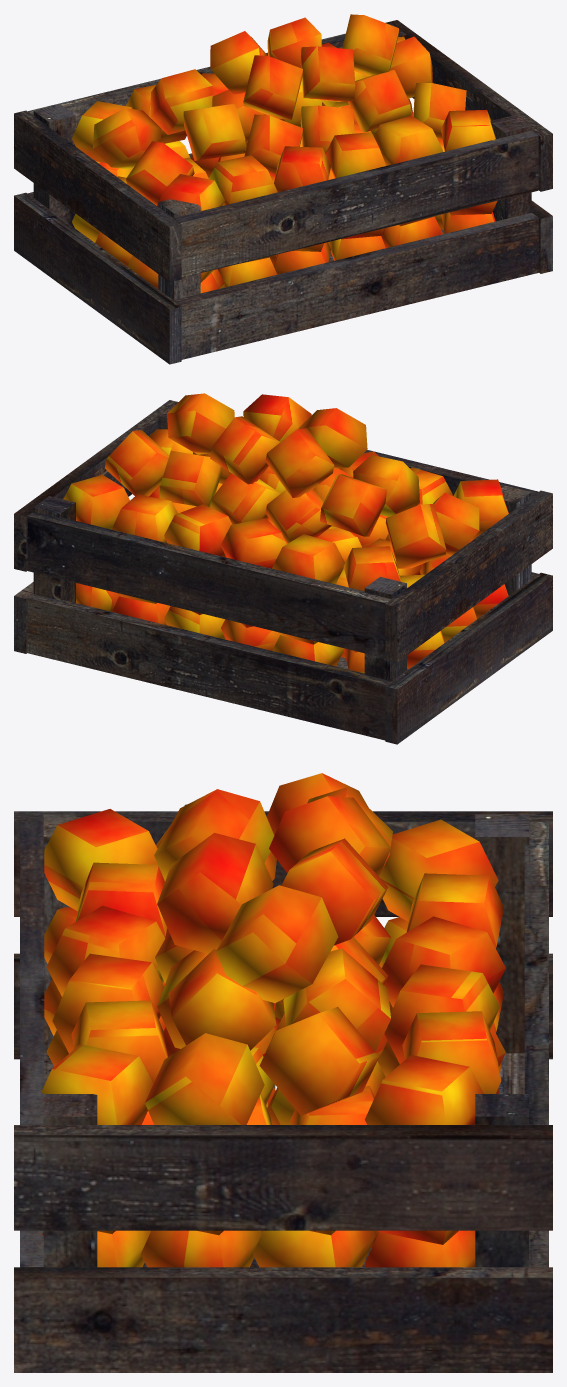
File: smallcrate.fbx
3 views of the same model, one above another, from view 1: azimuth 30°, elevation 25°; view 2: azimuth 150°, elevation 25°; view 3: azimuth 270°, elevation 25° (orthographic). The views are drawn at different scales.
Parts seen in each view (by area): view 1: BoxWithApples; view 2: BoxWithApples; view 3: BoxWithApples.
Part boxes in pixels (left/top/right/bottom): BoxWithApples: left=14, top=14, right=552, bottom=364; BoxWithApples: left=14, top=393, right=552, bottom=744; BoxWithApples: left=14, top=773, right=552, bottom=1372.
Bounding box in the file's own units: 0.6346 × 0.3593 × 0.4463.
Materials: 2 (2 with a texture image).
